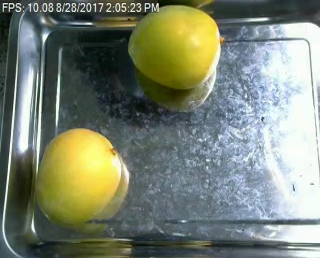Mango: (31, 127, 121, 223), (123, 7, 220, 89)
